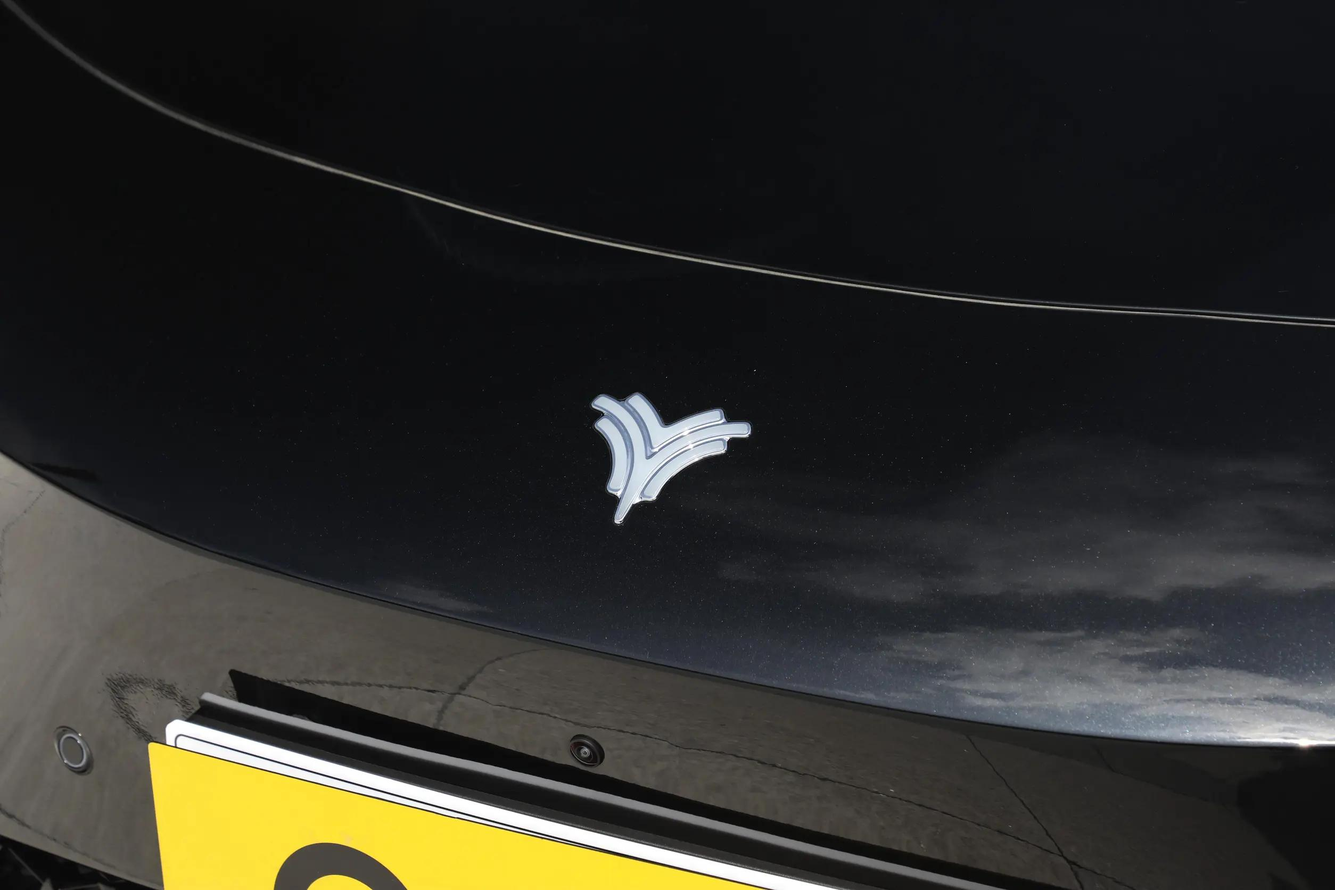NETA: (588, 389, 752, 526)
